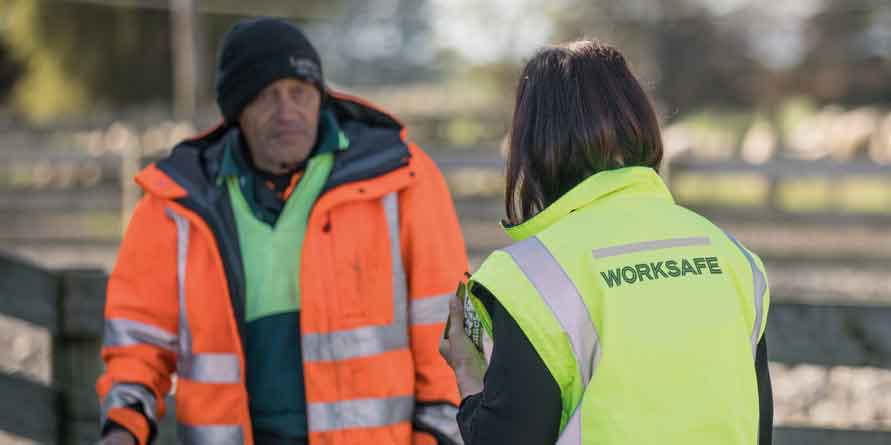noepi: (113, 15, 468, 445), (455, 39, 773, 445)
